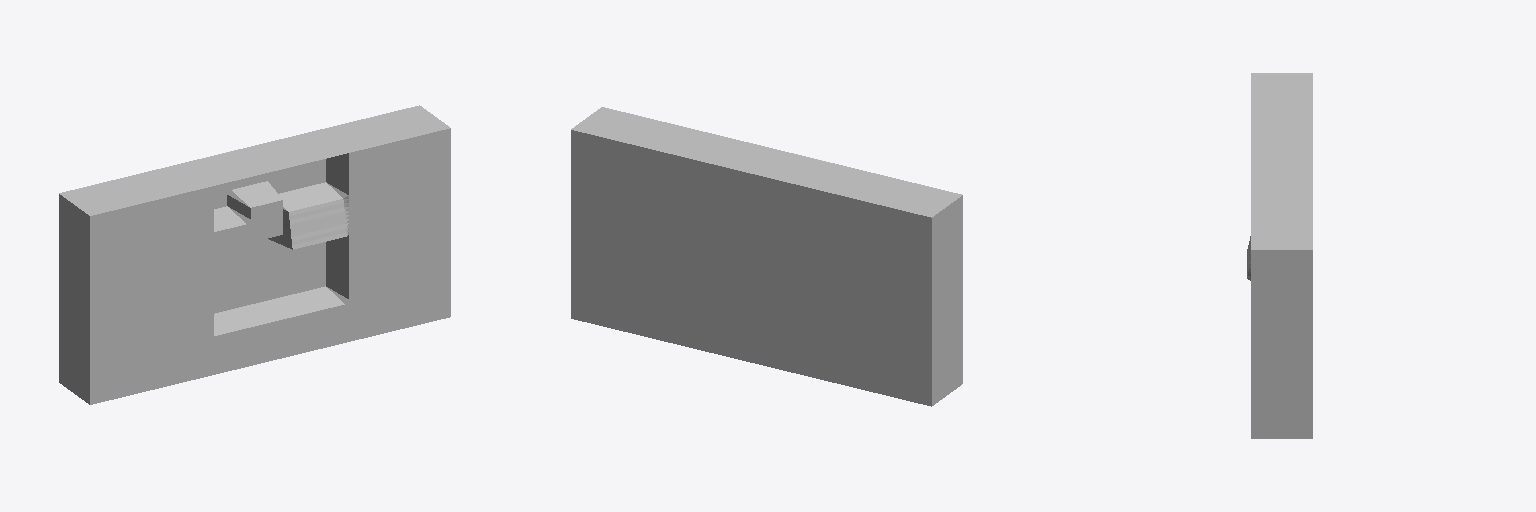
File: rectangular_prism_bumps_0_0.obj
3 renders of one model, left to right at view 1: azimuth 30°, elevation 25°; view 2: azimuth 150°, elevation 25°; view 3: azimuth 270°, elevation 25°, orthographic.
Size of the model in its own units: 10 by 5 by 1.6.